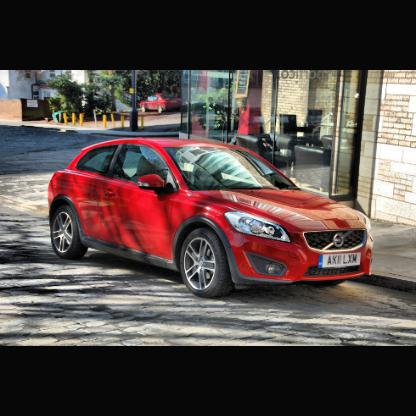Volvo C30 Hatchback 2012: (51, 139, 374, 295)
